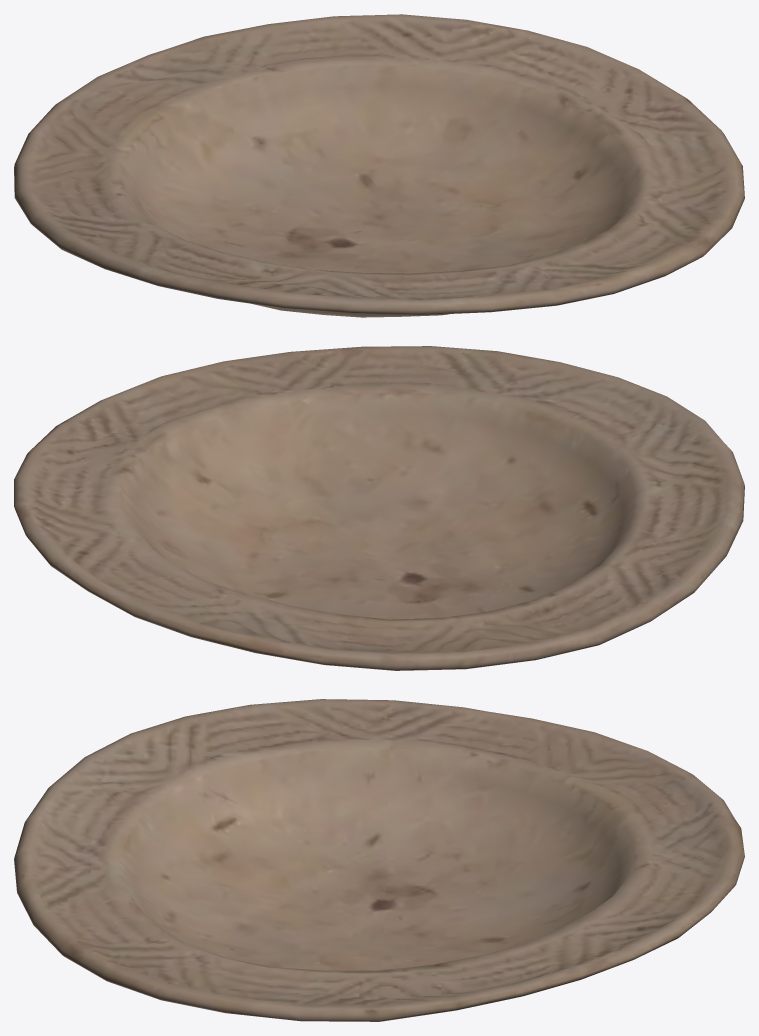
The model's file is carved_wooden_plate.glb.
The picture shows the model from 3 angles, top to bottom: view 1: azimuth 30°, elevation 25°; view 2: azimuth 150°, elevation 25°; view 3: azimuth 270°, elevation 25°; orthographic projection. The views are drawn at different scales.
Parts seen in each view (by area): view 1: carved_wooden_plate; view 2: carved_wooden_plate; view 3: carved_wooden_plate.
Part boxes in pixels (x1,y1,x2,y2): carved_wooden_plate: (14, 14, 744, 317); carved_wooden_plate: (14, 346, 744, 670); carved_wooden_plate: (14, 699, 744, 1021).
Bounding box in the file's own units: 0.2718 × 0.0381 × 0.2688.
Materials: 1 (1 with a texture image).
